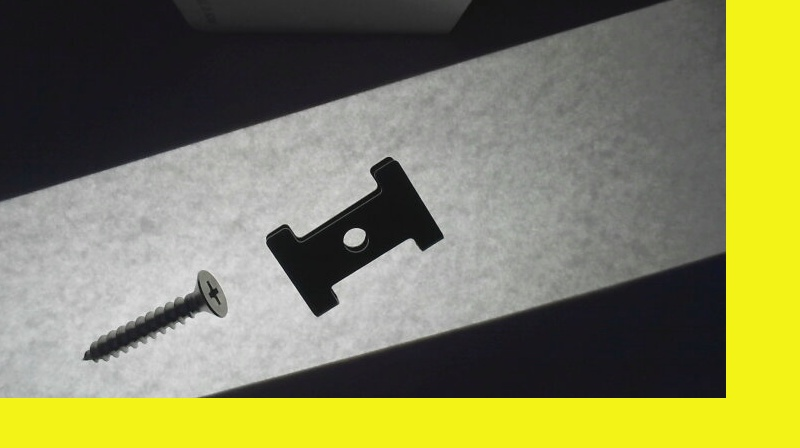O002: (263, 156, 444, 316)
S001: (81, 266, 229, 365)
